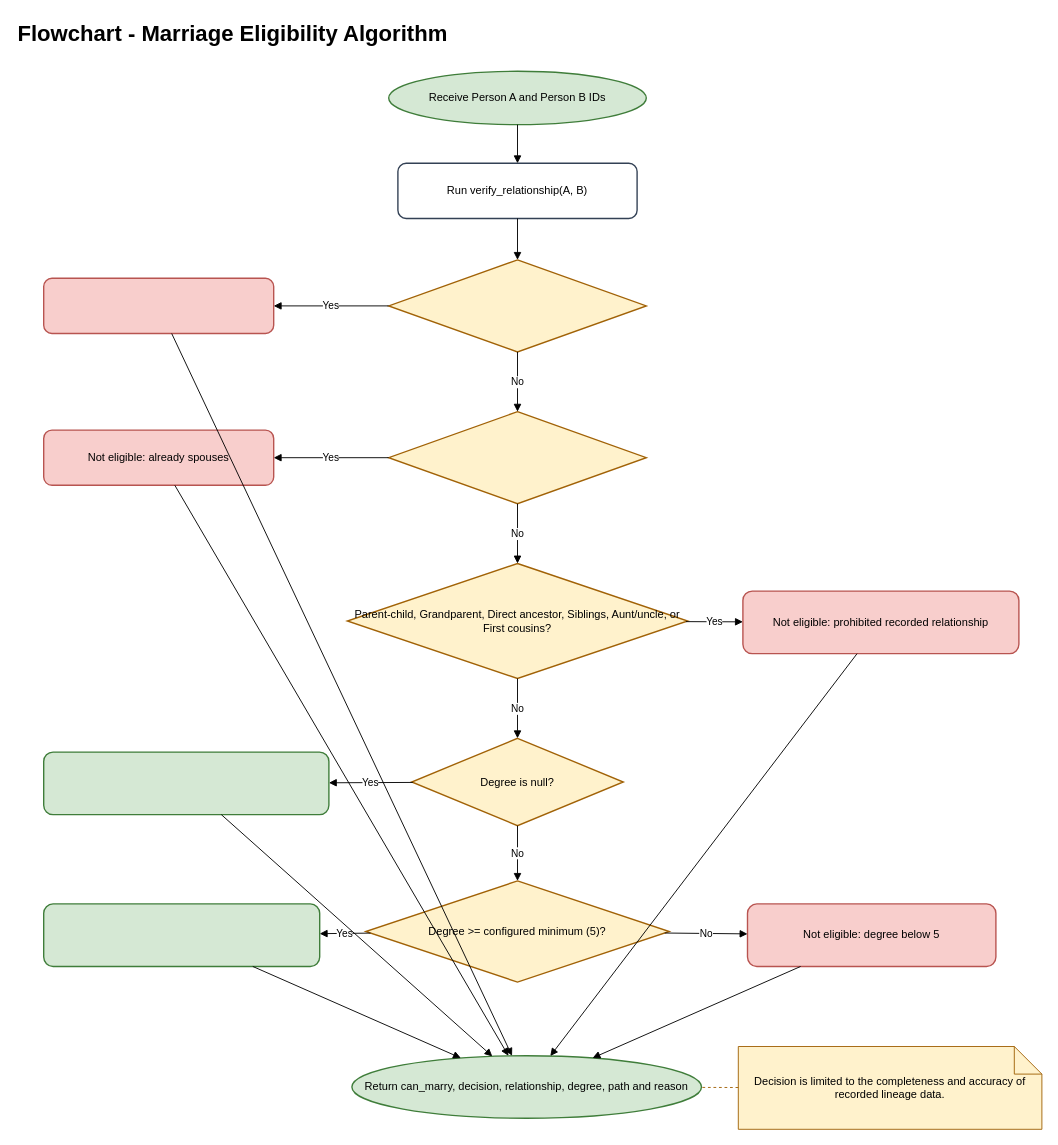
This 1058x1145 diagram has some shape labels left out. The shapes that lost their labels are listed below. From the top down, each one's centre as x and y in pixels, then its label:
the point at 158,305: Not eligible: same record
the point at 517,305: Relationship is Same person?
the point at 517,457: Relationship is Spouses?
the point at 186,783: Eligible: no shared ancestor found in recorded graph
the point at 181,935: Eligible: relationship meets minimum degree
